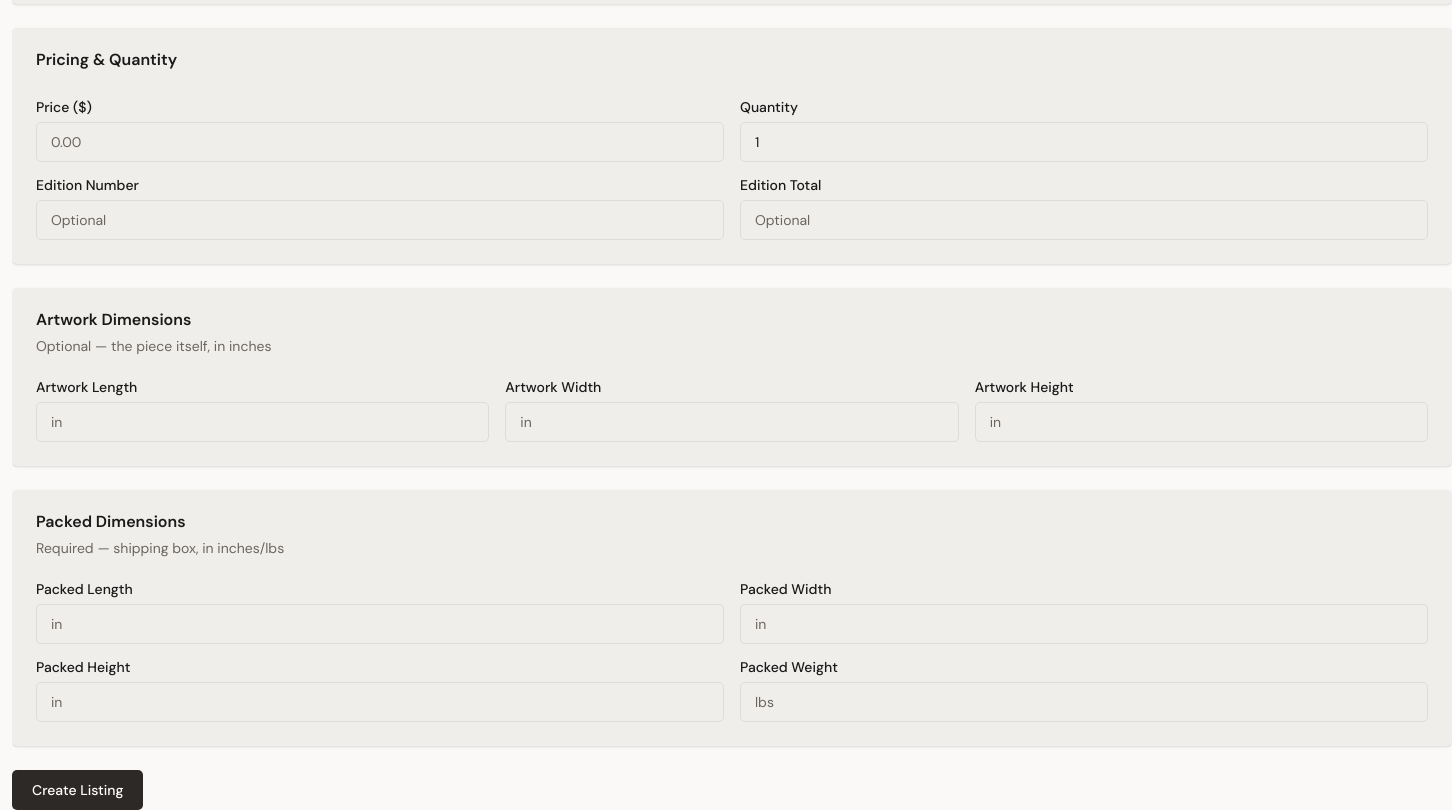
Test case: ListingForm › Create mode › should show validation error for missing required fields
(page scrolled)
# Submit without filling anything
What coordinates should you click on to do the following:
click the button with test id "listing-form-submit"
I would click on:
 (78, 790)
Its box is left=12, top=770, right=143, bottom=809.
(page scrolled)
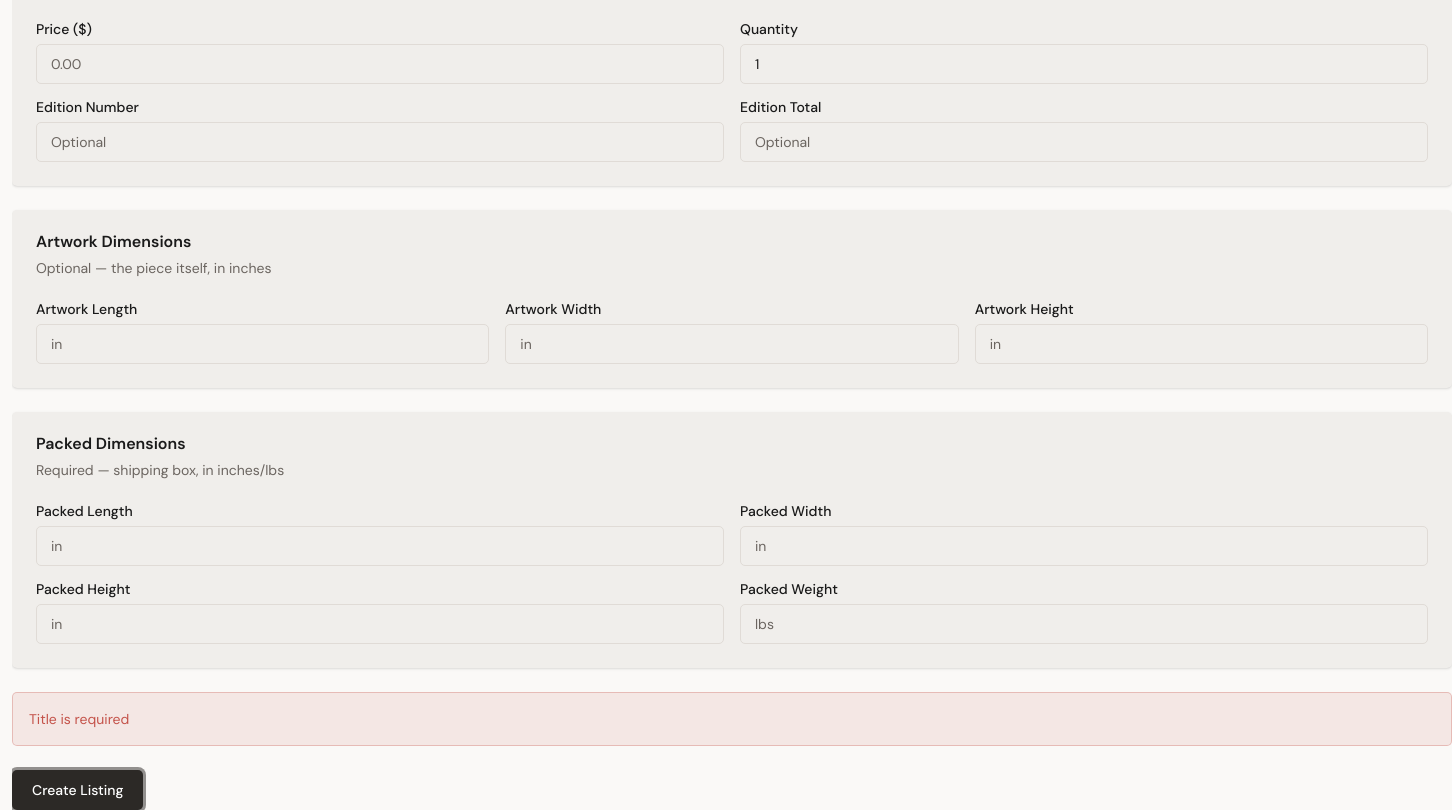
Expected: the message "Title is required" is shown, left=12, top=692, right=1451, bottom=746
